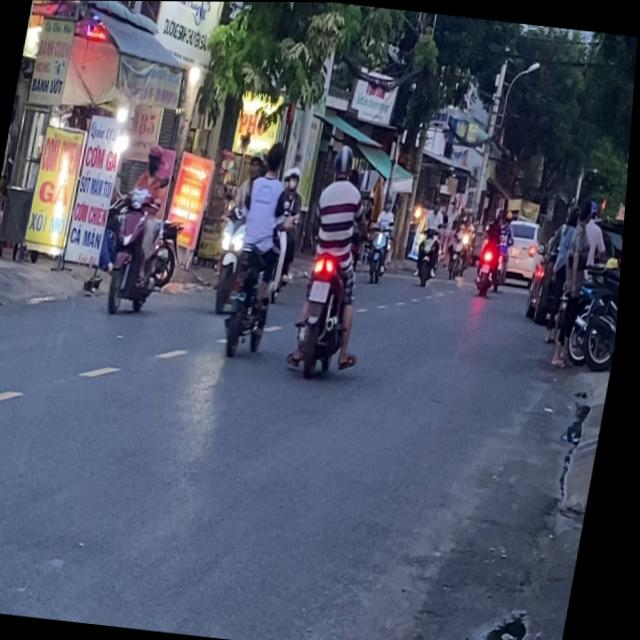helmet: (332, 141, 358, 180), (145, 142, 165, 174), (286, 164, 304, 189)
licenseplate: (288, 139, 390, 381), (216, 135, 307, 361), (103, 139, 183, 319)
motorcyclist: (264, 139, 288, 176)
nohelmet: (313, 279, 334, 301)
